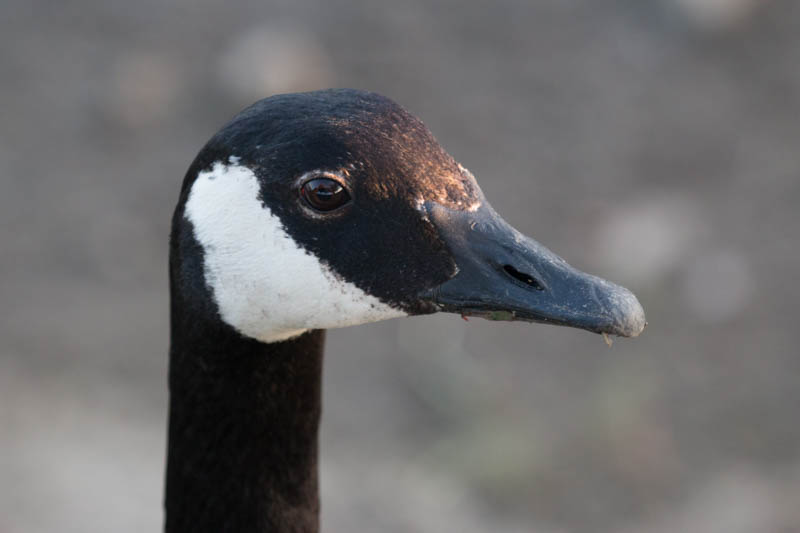goose-head: (169, 89, 647, 345)
